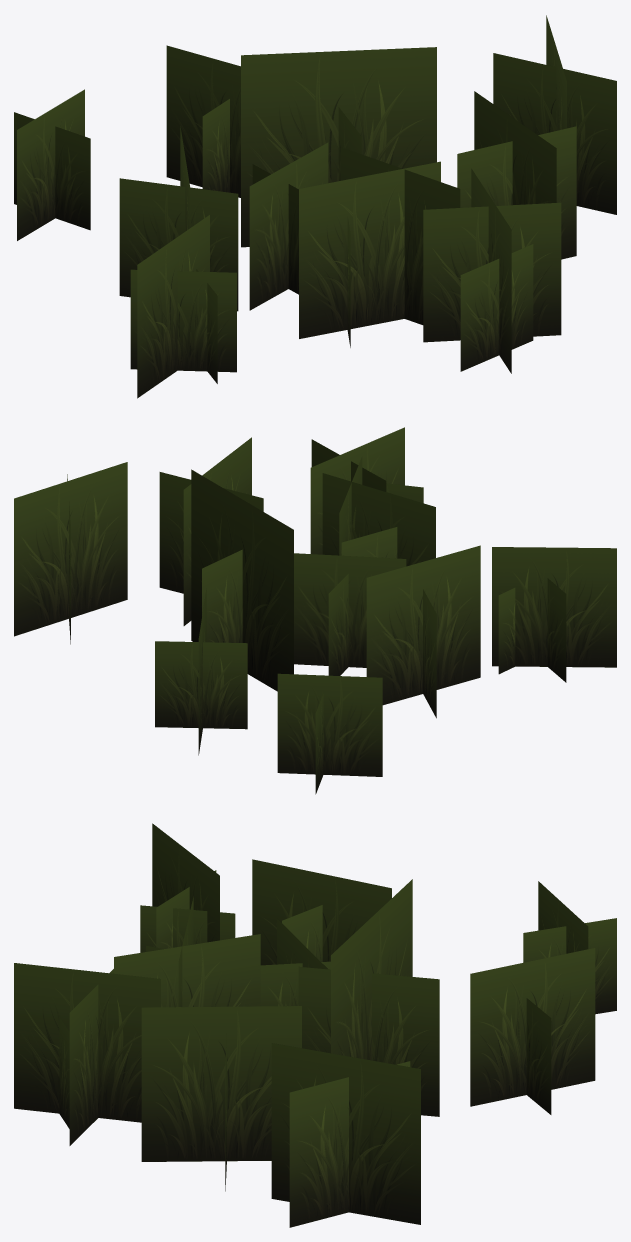
File: Grass_08.fbx
The picture shows the model from 3 angles, top to bottom: view 1: azimuth 30°, elevation 25°; view 2: azimuth 150°, elevation 25°; view 3: azimuth 270°, elevation 25°; orthographic projection. The views are drawn at different scales.
Visible parts, largest first — view 1: Grass_08; view 2: Grass_08; view 3: Grass_08.
Part boxes in pixels (x1,y1,x2,y2): Grass_08: [14, 15, 616, 398]; Grass_08: [14, 427, 616, 794]; Grass_08: [14, 823, 616, 1227].
Bounding box in the file's own units: 3.43 × 1.15 × 3.24.
Materials: 1 (1 with a texture image).
